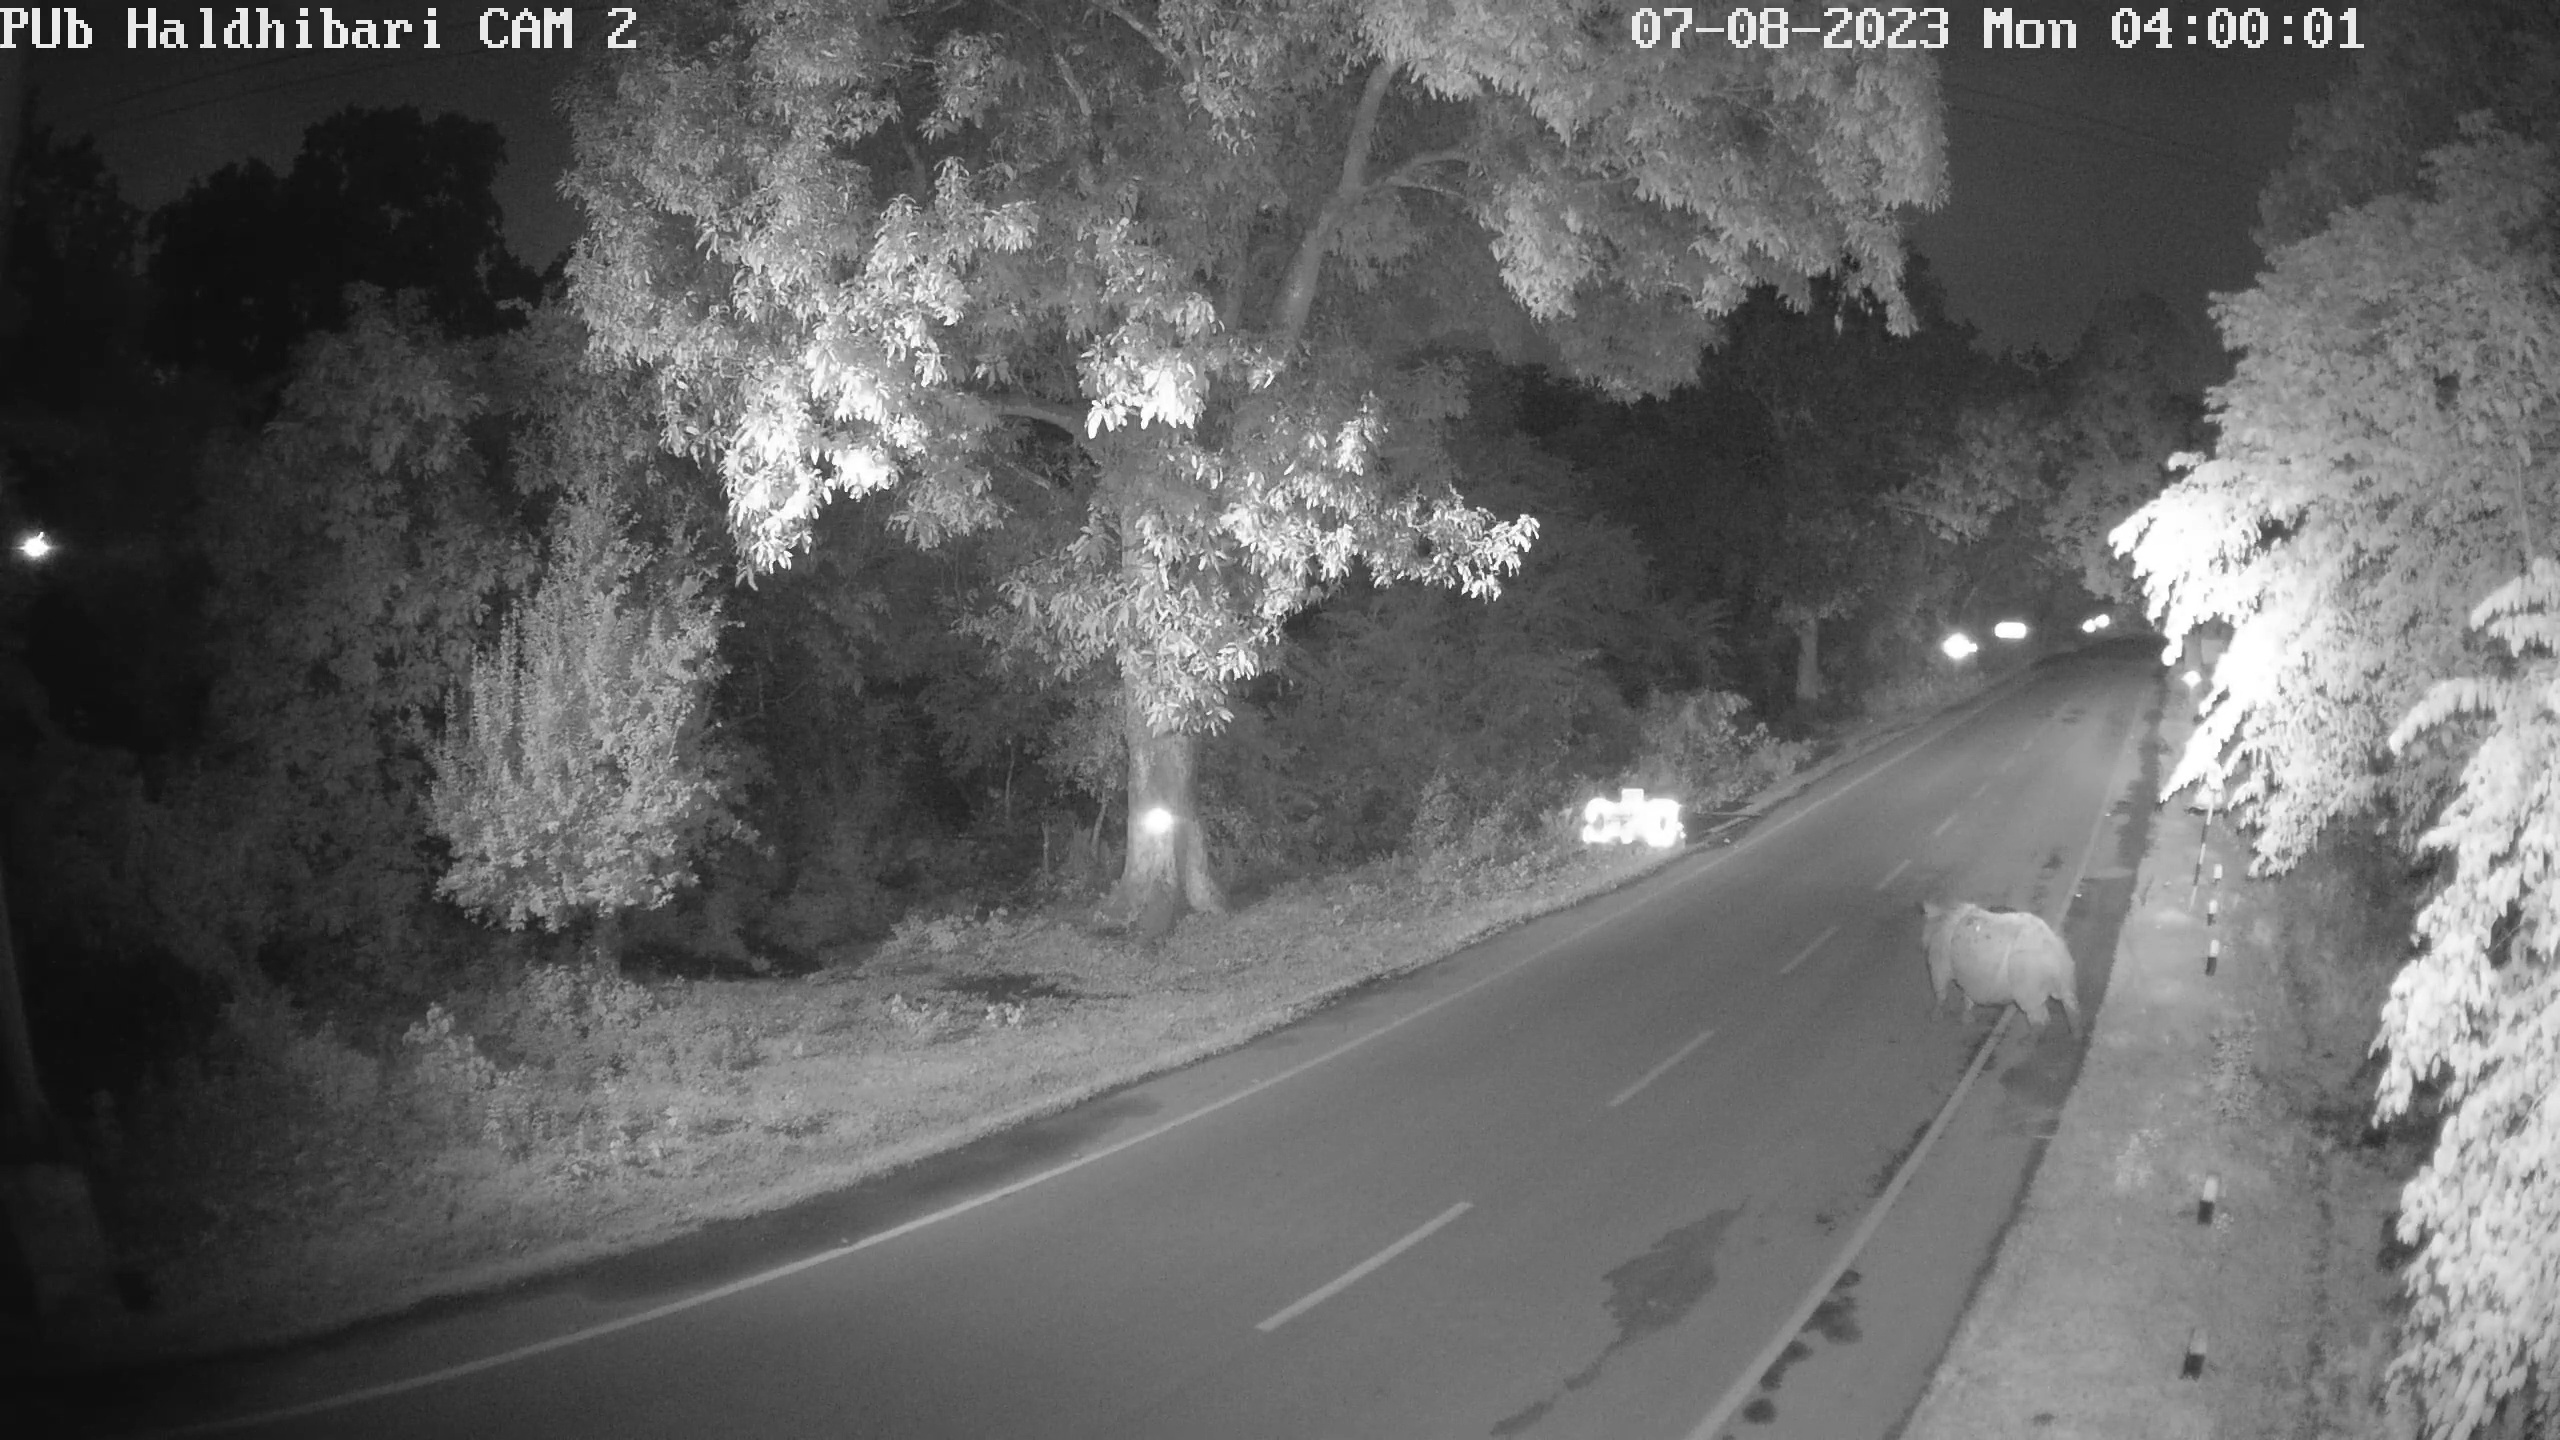rhinos: (1925, 897, 2073, 1036), (1895, 886, 1908, 888)
